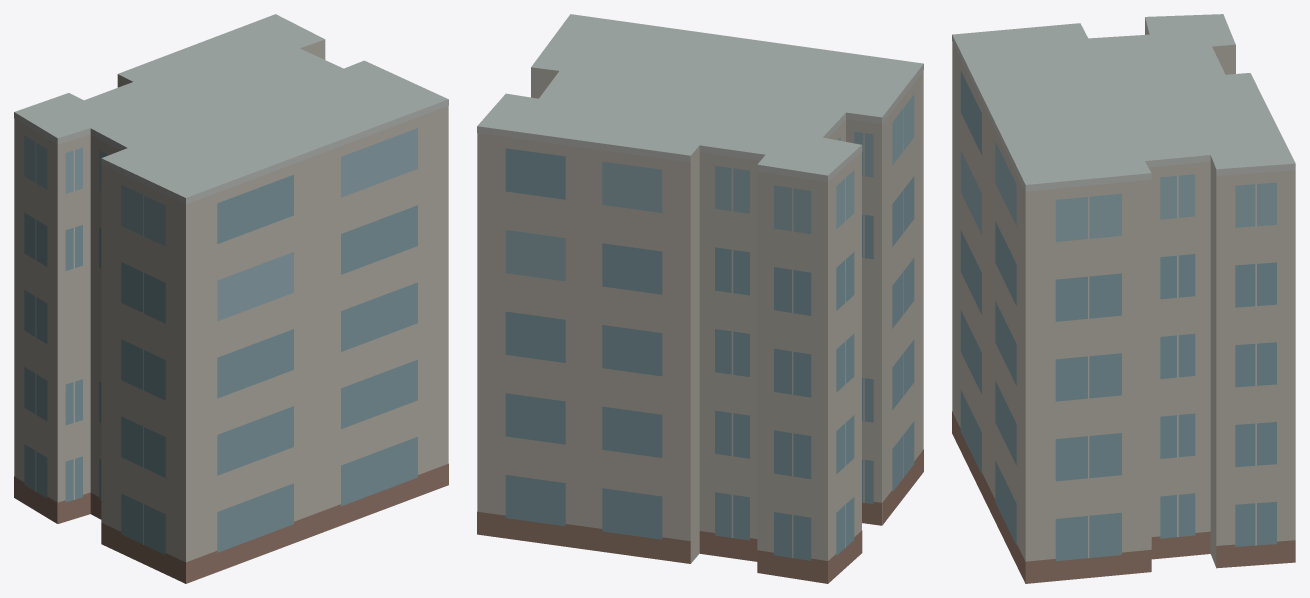
File: survey-upis-32991856.glb
The picture shows the model from 3 angles, left to right: view 1: azimuth 30°, elevation 25°; view 2: azimuth 150°, elevation 25°; view 3: azimuth 270°, elevation 25°; orthographic projection. The views are drawn at different scales.
Visible parts, largest first — view 1: survey-upis-32991856.tmp; view 2: survey-upis-32991856.tmp; view 3: survey-upis-32991856.tmp.
Boxes of the visible parts, x1,y1,x2,y2 form: survey-upis-32991856.tmp: (14,14,448,583); survey-upis-32991856.tmp: (477,14,923,583); survey-upis-32991856.tmp: (952,14,1295,583).
Size of the model in its own units: 13.62 by 14.8 by 11.56.
